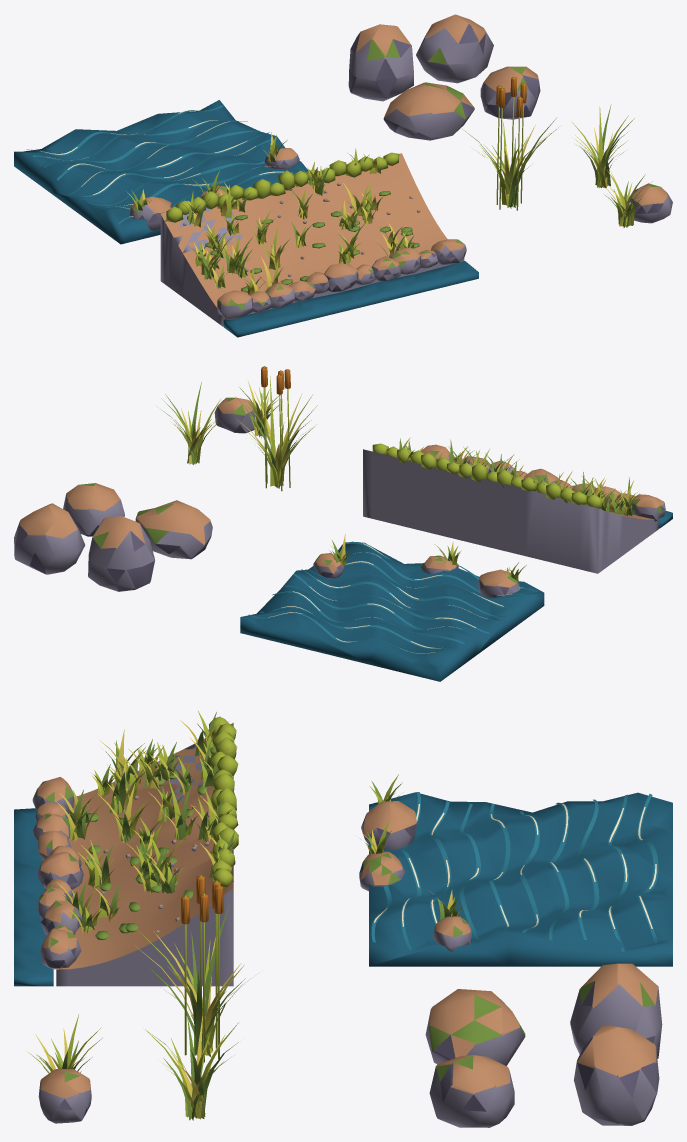
3 renders of one model, top to bottom at view 1: azimuth 30°, elevation 25°; view 2: azimuth 150°, elevation 25°; view 3: azimuth 270°, elevation 25°, orthographic. The views are drawn at different scales.
Bounding box in the file's own units: 9.13 × 2.29 × 7.8.
